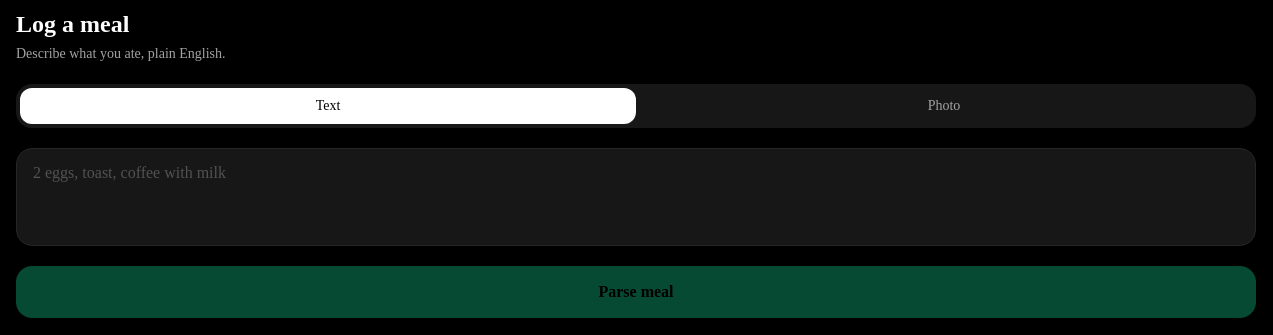
Scenario: LogScreen — BUG-03 stale parse result after text edit › does not display/apply a parse response that resolves after the text was edited
Step 1. Type "old text" into the text box with placeholder "2 eggs, toast, coffee with milk" → x=636, y=197, box [16,148,1256,246]
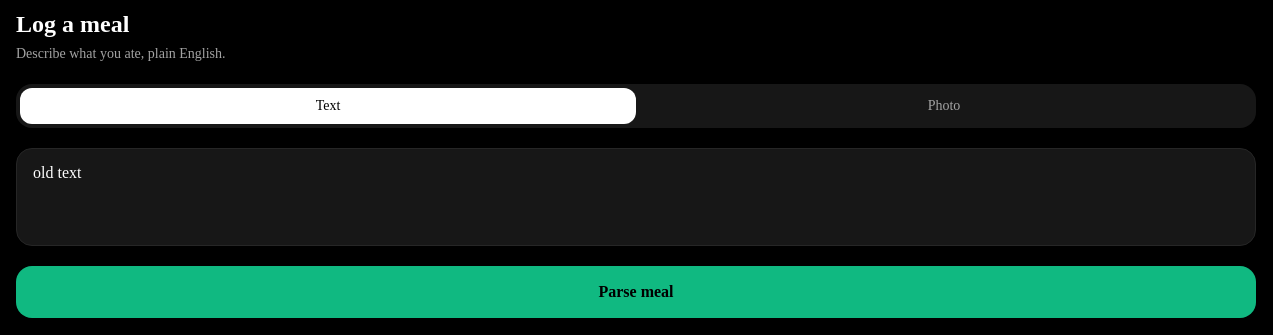
Step 2. Click the button "Parse meal" → x=636, y=292, box [16,266,1256,318]
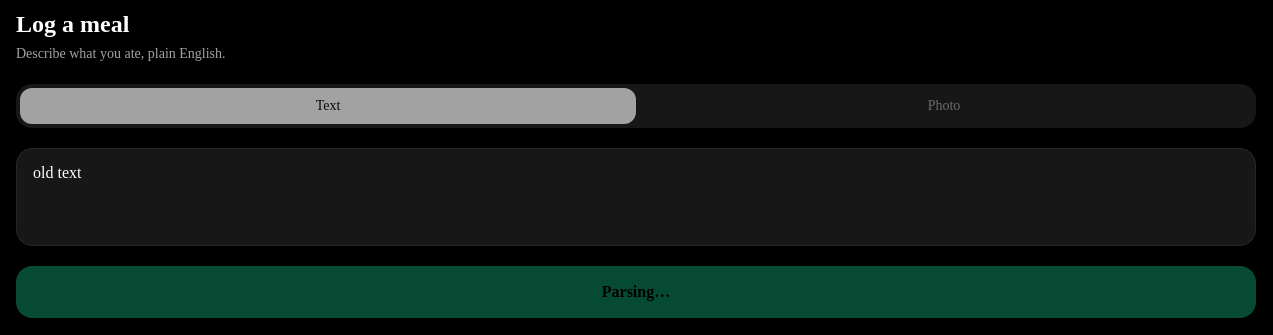
// User edits the text while the request for "old text" is still in flight.
Step 3. Replace the text in the text box with placeholder "2 eggs, toast, coffee with milk" with "new text" → x=636, y=197, box [16,148,1256,246]
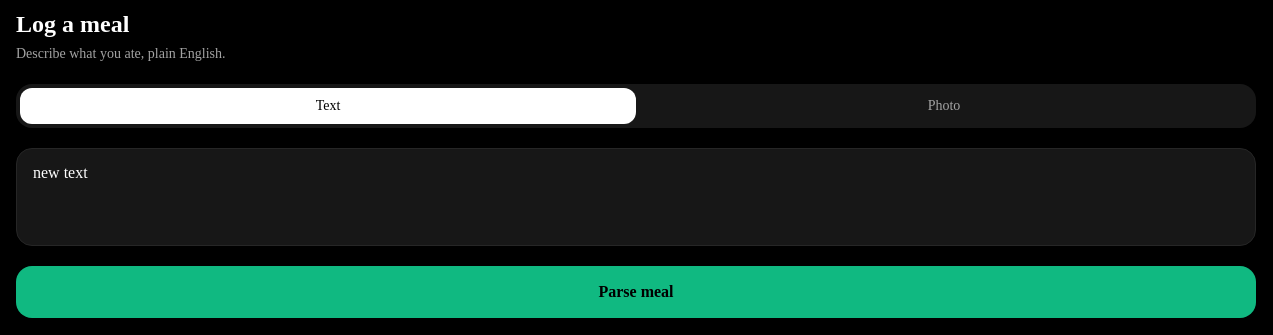
Now the button "Parse meal" is enabled, box [16,266,1256,318]
